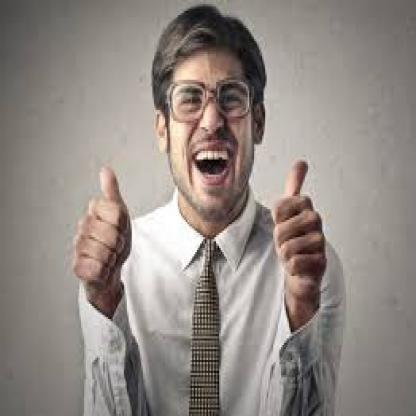thumb_up: (268, 152, 328, 297), (70, 162, 136, 291)
